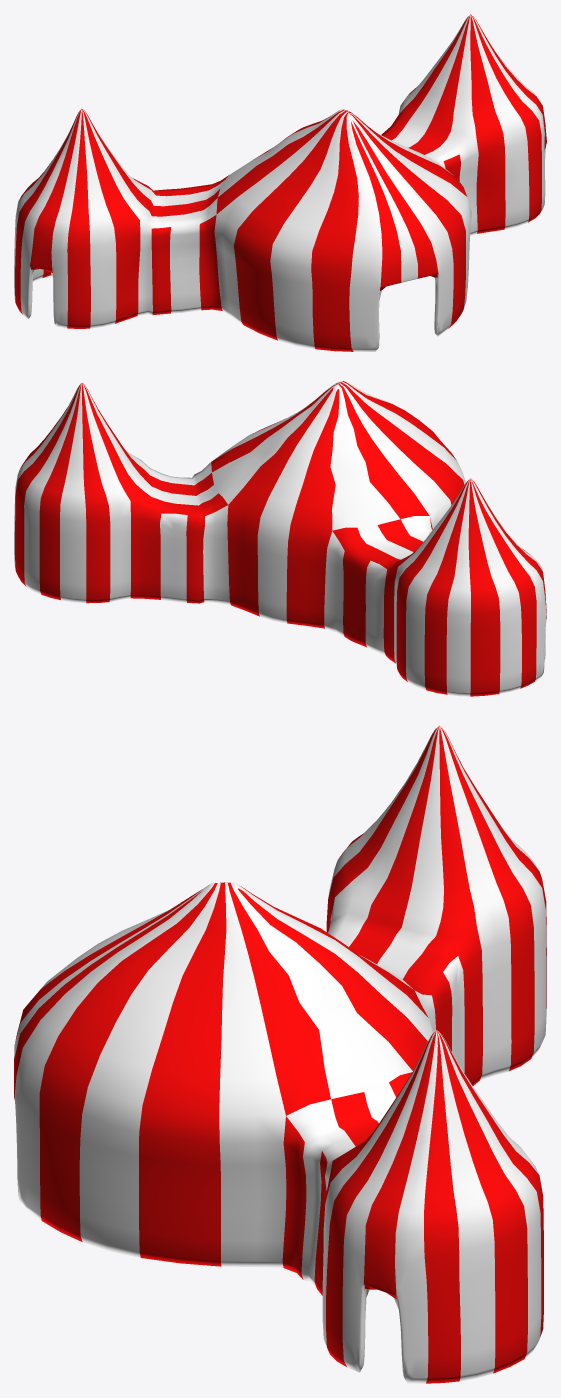
File: Tritop_High.fbx
3 renders of one model, top to bottom at view 1: azimuth 30°, elevation 25°; view 2: azimuth 150°, elevation 25°; view 3: azimuth 270°, elevation 25°, orthographic. The views are drawn at different scales.
Visible parts, largest first — view 1: Tent_High; view 2: Tent_High; view 3: Tent_High.
Boxes of the visible parts, x1,y1,x2,y2 form: Tent_High: (14, 14, 546, 351); Tent_High: (14, 380, 546, 696); Tent_High: (14, 725, 546, 1383).
Bounding box in the file's own units: 17196 × 6087 × 9564.
